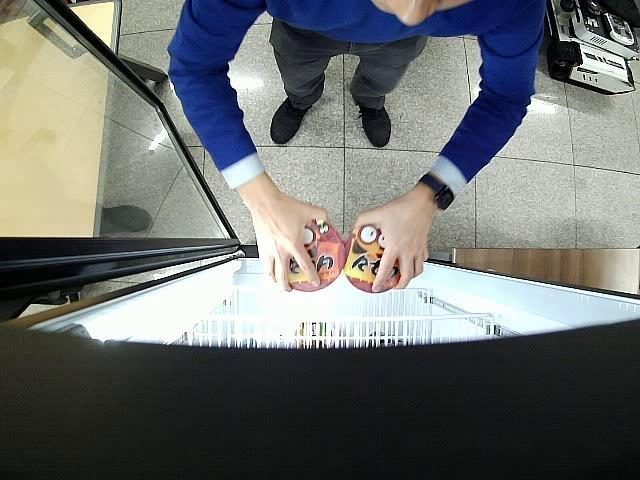05_nuguri_L: (272, 220, 345, 292), (345, 224, 411, 294)
